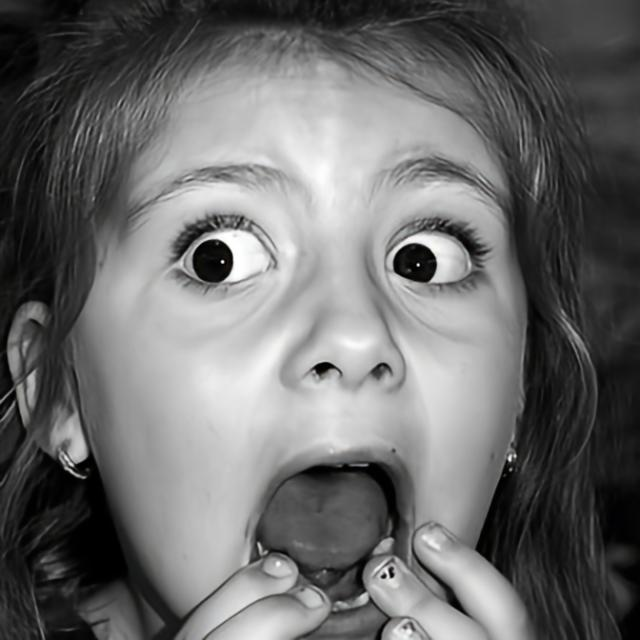fear: (69, 17, 531, 640)
